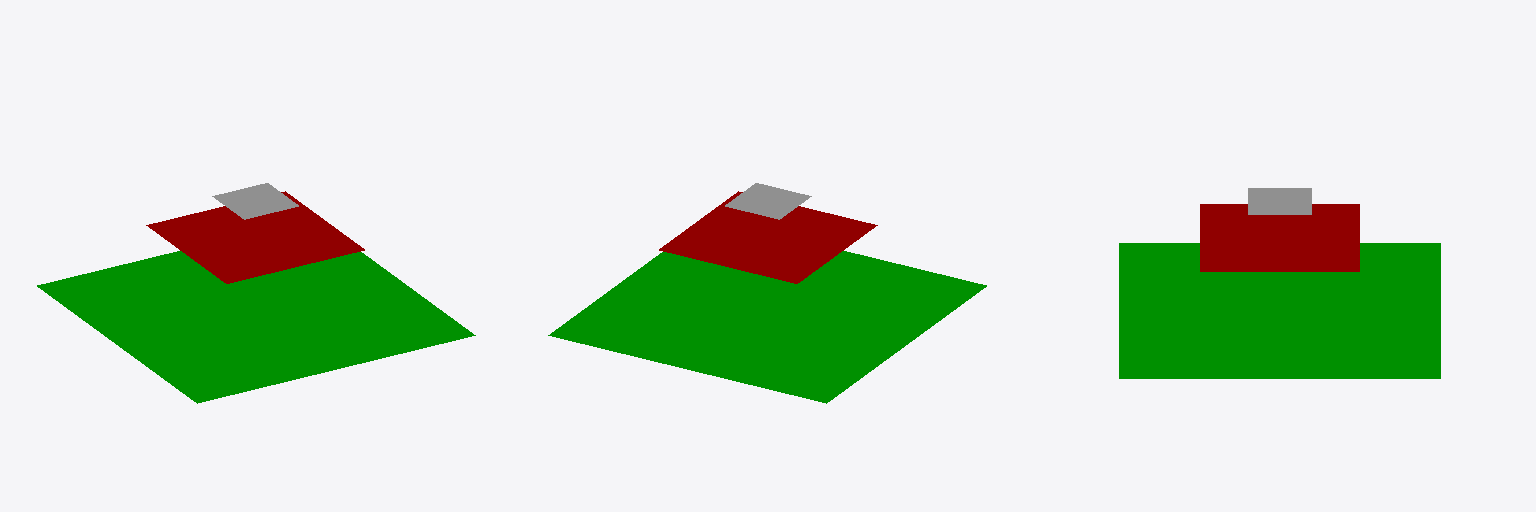
The picture shows the model from 3 angles: view 1: azimuth 30°, elevation 25°; view 2: azimuth 150°, elevation 25°; view 3: azimuth 270°, elevation 25°; orthographic projection.
Parts seen in each view (by area): view 1: Bottom_Plane.001; view 2: Bottom_Plane.001; view 3: Bottom_Plane.001.
Boxes of the visible parts, <box> form: Bottom_Plane.001: <box>37,183,475,403</box>; Bottom_Plane.001: <box>548,183,986,403</box>; Bottom_Plane.001: <box>1119,188,1440,378</box>.
Bounding box in the file's own units: 4 × 1.5 × 4.